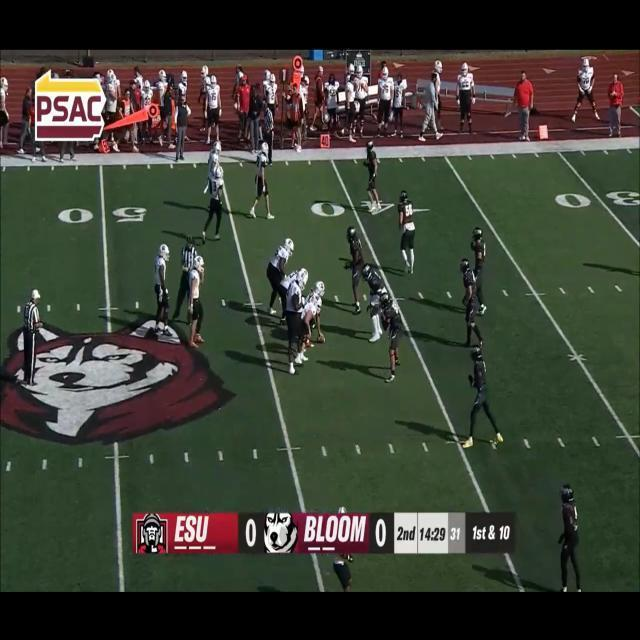football: (316, 332, 327, 344)
